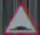Speed Breaker ahead: (4, 0, 38, 34)
